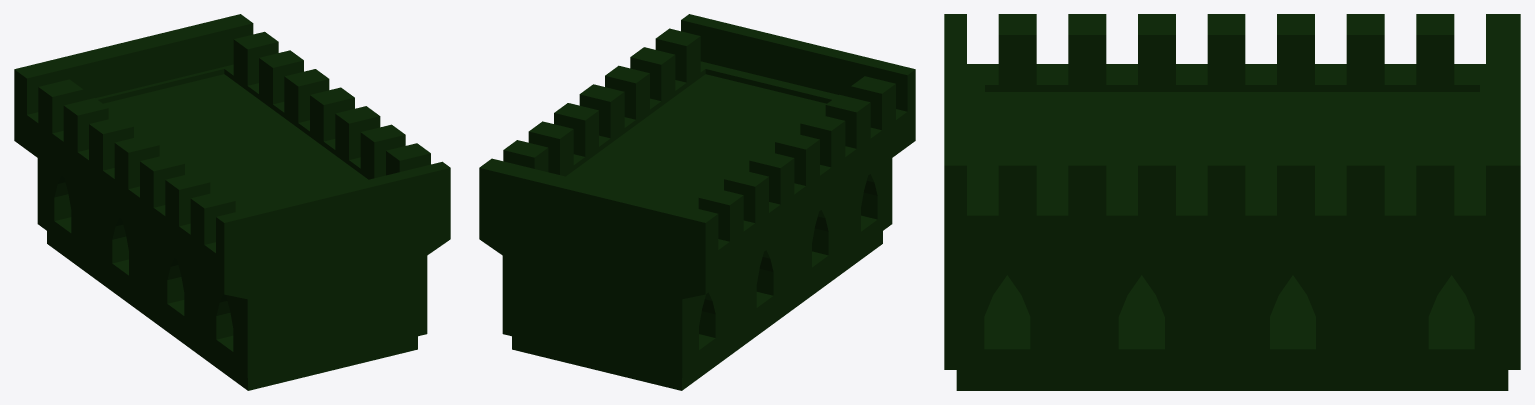
The model's file is gate-top-1.fbx.
3 views of the same model, side by side, from view 1: azimuth 30°, elevation 25°; view 2: azimuth 150°, elevation 25°; view 3: azimuth 270°, elevation 25° (orthographic). The views are drawn at different scales.
Parts seen in each view (by area): view 1: gate-top-1; view 2: gate-top-1; view 3: gate-top-1.
Boxes of the visible parts, x1,y1,x2,y2 form: gate-top-1: (14,14,450,390); gate-top-1: (479,14,915,390); gate-top-1: (944,14,1520,390).
Bounding box in the file's own units: 4.49 × 3.38 × 7.22.
